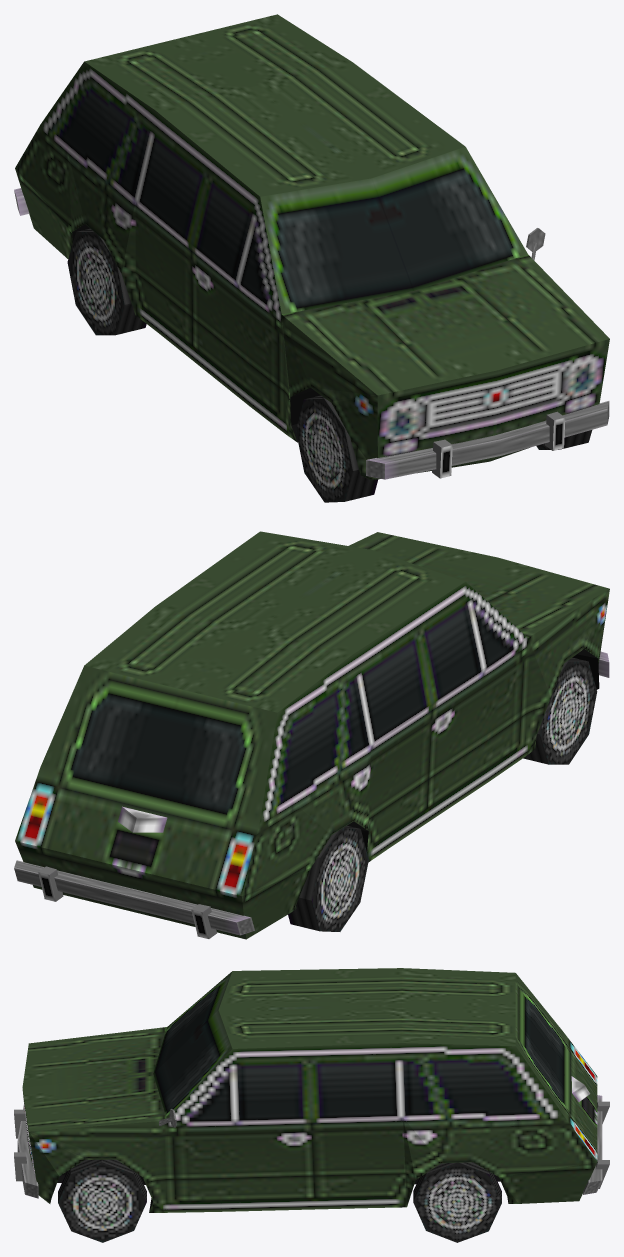
Rendered from Auto2verde.fbx.
3 views of the same model, one above another, from view 1: azimuth 30°, elevation 25°; view 2: azimuth 150°, elevation 25°; view 3: azimuth 270°, elevation 25° (orthographic). The views are drawn at different scales.
Visible parts, largest first — view 1: Car; view 2: Car; view 3: Car.
Boxes of the visible parts, <box> form: Car: <box>14,14,609,502</box>; Car: <box>14,531,609,939</box>; Car: <box>14,968,609,1242</box>.
Bounding box in the file's own units: 256 × 217 × 615.
1 material, 1 textured.
